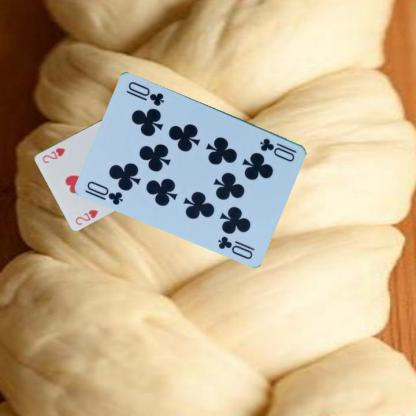10c: (257, 135, 298, 163), (84, 178, 125, 206)
2h: (72, 207, 100, 226)
